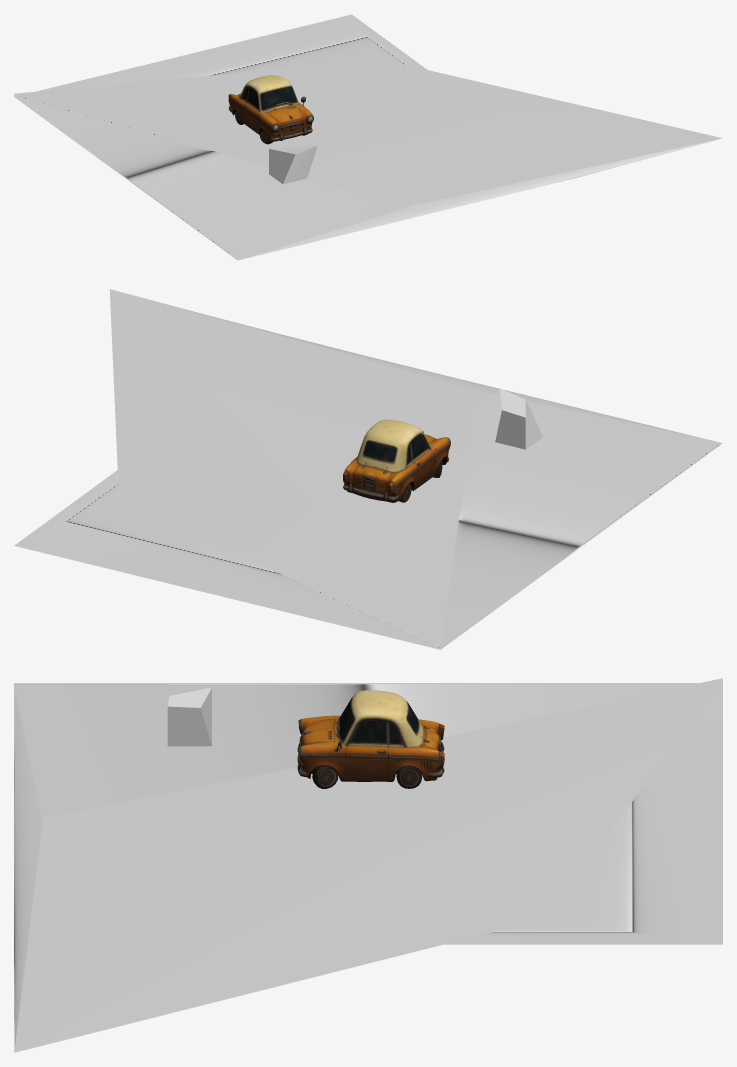
The picture shows the model from 3 angles, top to bottom: view 1: azimuth 30°, elevation 25°; view 2: azimuth 150°, elevation 25°; view 3: azimuth 270°, elevation 25°; orthographic projection. The views are drawn at different scales.
Visible parts, largest first — view 1: Cube.001, car, Cube; view 2: Cube.001, car, Cube; view 3: Cube.001, car, Cube.
Part boxes in pixels (bbox=[...]): Cube.001: bbox=[14, 14, 722, 260]; car: bbox=[228, 75, 313, 144]; Cube: bbox=[269, 145, 317, 184]; Cube.001: bbox=[14, 289, 722, 649]; car: bbox=[343, 419, 450, 502]; Cube: bbox=[495, 388, 543, 449]; Cube.001: bbox=[14, 678, 722, 1052]; car: bbox=[297, 690, 444, 788]; Cube: bbox=[167, 687, 211, 746].
Bounding box in the file's own units: 40.08 × 4.85 × 31.97.
3 materials, 1 textured.
